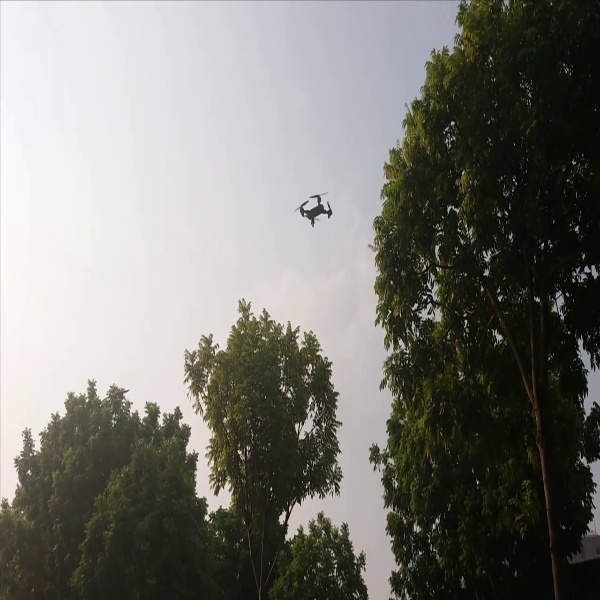drone: (294, 184, 339, 229)
